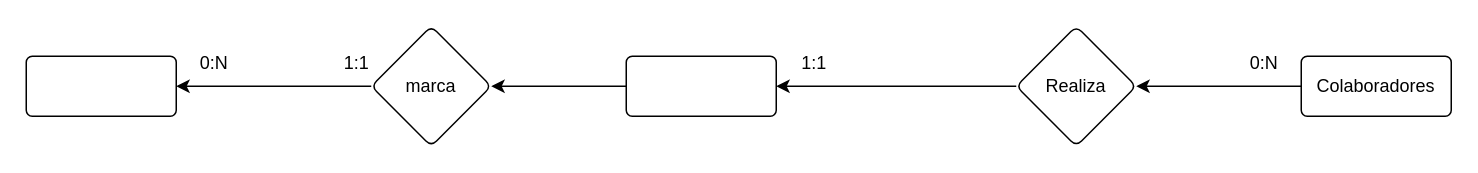
This 1478x173 diagram has some shape labels left out. The shapes that lost their labels are listed below. From the top down, each one's centre as x and y in pixels, then its label:
At (100,85): "Sala".
At (700,85): "Reserva".
